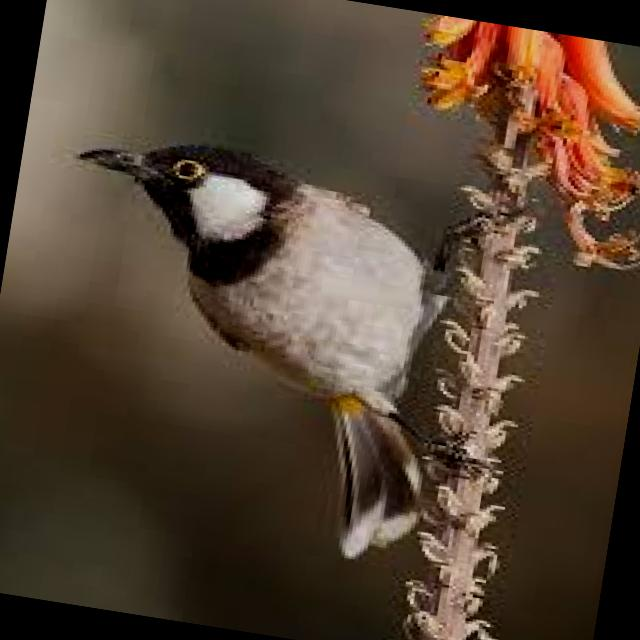bird: (22, 119, 490, 572)
